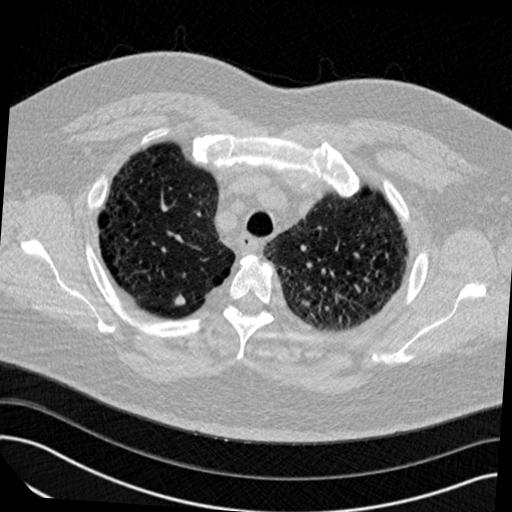nodule: (175, 293, 192, 310)
